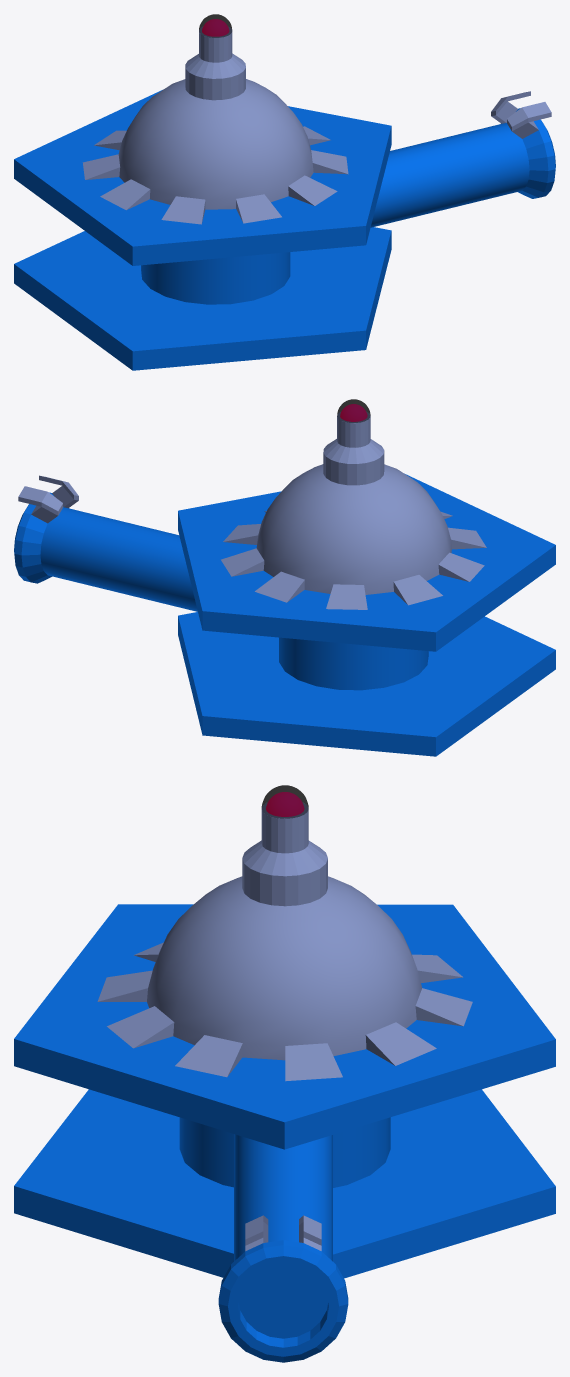
File: Pentagon_Enem_Idle.fbx
3 views of the same model, one above another, from view 1: azimuth 30°, elevation 25°; view 2: azimuth 150°, elevation 25°; view 3: azimuth 270°, elevation 25° (orthographic). The views are drawn at different scales.
Parts seen in each view (by area): view 1: pCylinder5, polySurface1; view 2: pCylinder5, polySurface1; view 3: pCylinder5, polySurface1, polySurface2.
Boxes of the visible parts, left/top/right/bottom form: pCylinder5: left=14, top=90, right=555, bottom=370; polySurface1: left=82, top=14, right=348, bottom=224; pCylinder5: left=14, top=473, right=555, bottom=756; polySurface1: left=221, top=399, right=486, bottom=609; pCylinder5: left=14, top=904, right=555, bottom=1362; polySurface1: left=97, top=785, right=472, bottom=1081; polySurface2: left=266, top=792, right=304, bottom=816.
Size of the model in its own units: 2.64 by 1.51 by 1.9.
